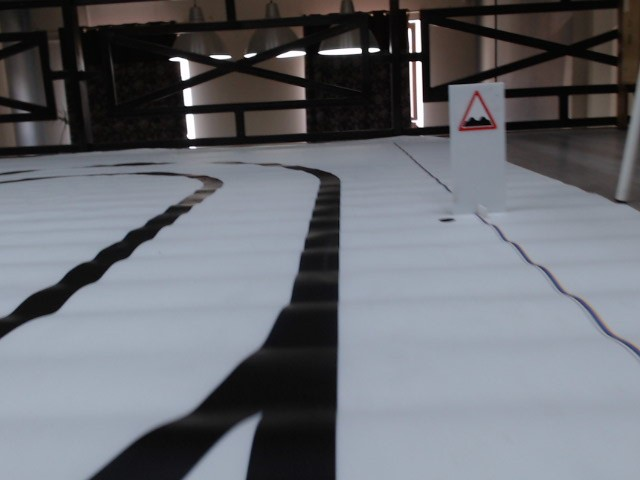Nerov: (456, 91, 498, 131)
